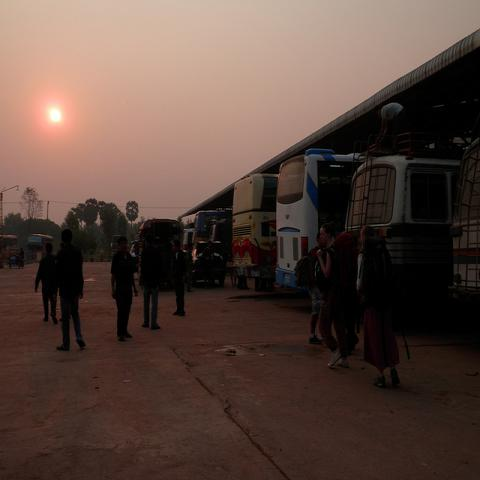bus: (342, 143, 460, 294), (276, 149, 361, 289), (447, 136, 479, 299), (233, 172, 279, 282), (177, 210, 230, 284), (27, 233, 53, 261)
